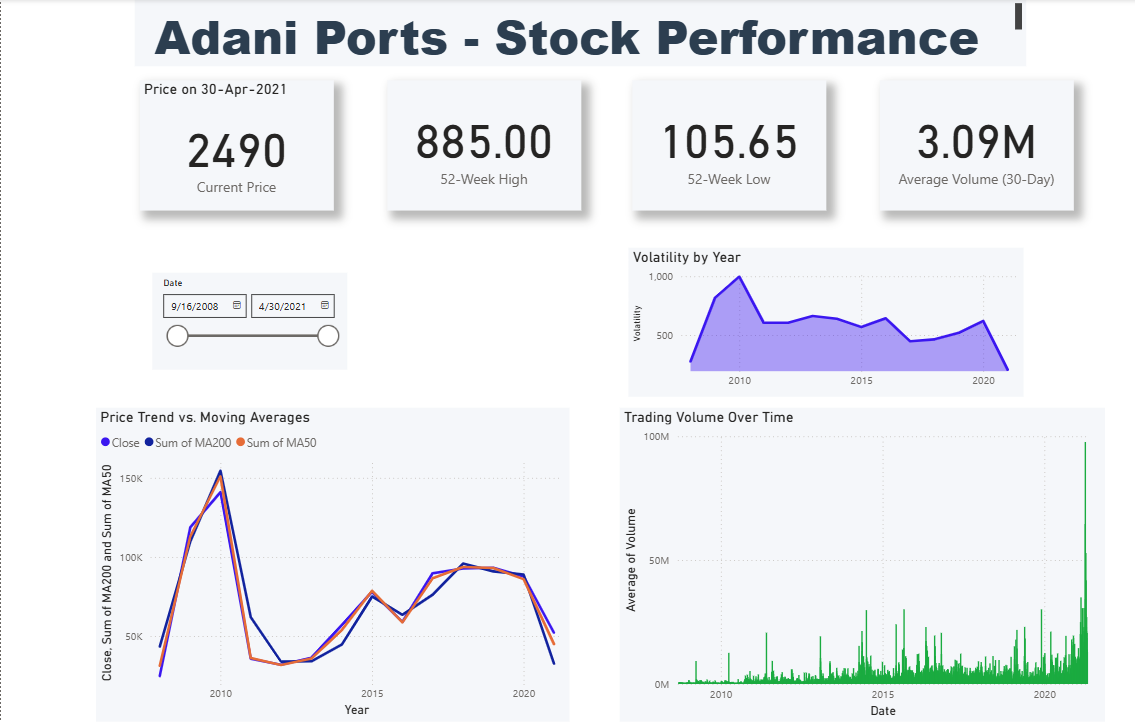

This screenshot's page, from the dashboard's own definition file:
{"tool":"powerbi","page":{"name":"Page 1","canvas":[1316,835],"ordinal":0},"visuals":[{"type":"textbox","box":[155,0,1028.6,77.9],"z":0},{"type":"card","fields":{"Values":["Count(ADANIPORTS_Analyzed.Close)"]},"box":[160.1,93.8,223.6,150],"z":1000},{"type":"card","fields":{"Values":["Max(ADANIPORTS_Analyzed.High)"]},"box":[445.8,93.8,223.6,150],"z":2000},{"type":"card","fields":{"Values":["Min(ADANIPORTS_Analyzed.Low)"]},"box":[728.5,93.8,223.6,150],"z":3000},{"type":"card","fields":{"Values":["Avg(ADANIPORTS_Analyzed.Volume)"]},"box":[1014.2,93.8,223.6,150],"z":4000},{"type":"lineChart","title":" Price Trend vs. Moving Averages","fields":{"Y":["Sum(ADANIPORTS_Analyzed.Close)","Sum(ADANIPORTS_Analyzed.MA200)","Sum(ADANIPORTS_Analyzed.MA50)"],"Category":["ADANIPORTS_Analyzed.Date.Variation.Date Hierarchy.Year","ADANIPORTS_Analyzed.Date.Variation.Date Hierarchy.Quarter","ADANIPORTS_Analyzed.Date.Variation.Date Hierarchy.Month","ADANIPORTS_Analyzed.Date.Variation.Date Hierarchy.Day"]},"box":[109.6,471.7,546.8,362.1],"z":5000},{"type":"clusteredColumnChart","title":"Trading Volume Over Time","fields":{"Y":["Avg(ADANIPORTS_Analyzed.Volume)"],"Category":["ADANIPORTS_Analyzed.Date"]},"box":[713.4,471.6,559.7,362.7],"z":6000},{"type":"areaChart","fields":{"Category":["ADANIPORTS_Analyzed.Date.Variation.Date Hierarchy.Year","ADANIPORTS_Analyzed.Date.Variation.Date Hierarchy.Quarter","ADANIPORTS_Analyzed.Date.Variation.Date Hierarchy.Month","ADANIPORTS_Analyzed.Date.Variation.Date Hierarchy.Day"],"Y":["Sum(ADANIPORTS_Analyzed.Volatility)"]},"box":[724.2,287.1,455.9,171.7],"z":7000},{"type":"slicer","fields":{"Values":["ADANIPORTS_Analyzed.Date"]},"box":[174.6,315.9,223.6,111.1],"z":8000}]}

Visuals, with their boxes in screenshot pixels (x1, y1, x2, y2), scaled from the page's 1316x835 canvas onto the 1135x722 screenshot:
textbox: 134, 0, 1021, 67
card - Count(ADANIPORTS_Analyzed.Close): 138, 81, 331, 211
card - Max(ADANIPORTS_Analyzed.High): 384, 81, 577, 211
card - Min(ADANIPORTS_Analyzed.Low): 628, 81, 821, 211
card - Avg(ADANIPORTS_Analyzed.Volume): 875, 81, 1068, 211
" Price Trend vs. Moving Averages" lineChart: 95, 408, 566, 721
"Trading Volume Over Time" clusteredColumnChart: 615, 408, 1098, 721
areaChart - ADANIPORTS_Analyzed.Date.Variation.Date Hierarchy.Year x ADANIPORTS_Analyzed.Date.Variation.Date Hierarchy.Quarter: 625, 248, 1018, 397
slicer - ADANIPORTS_Analyzed.Date: 151, 273, 343, 369
